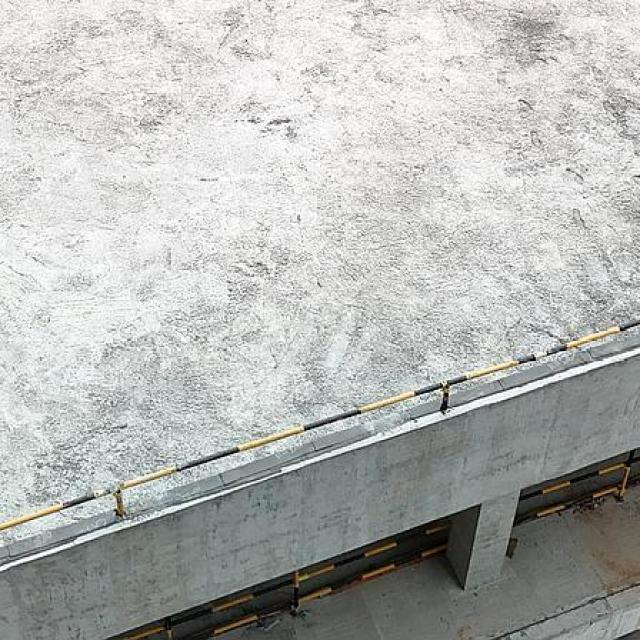edge_guardrail: (0, 317, 640, 534), (115, 521, 452, 640), (510, 445, 639, 526)
